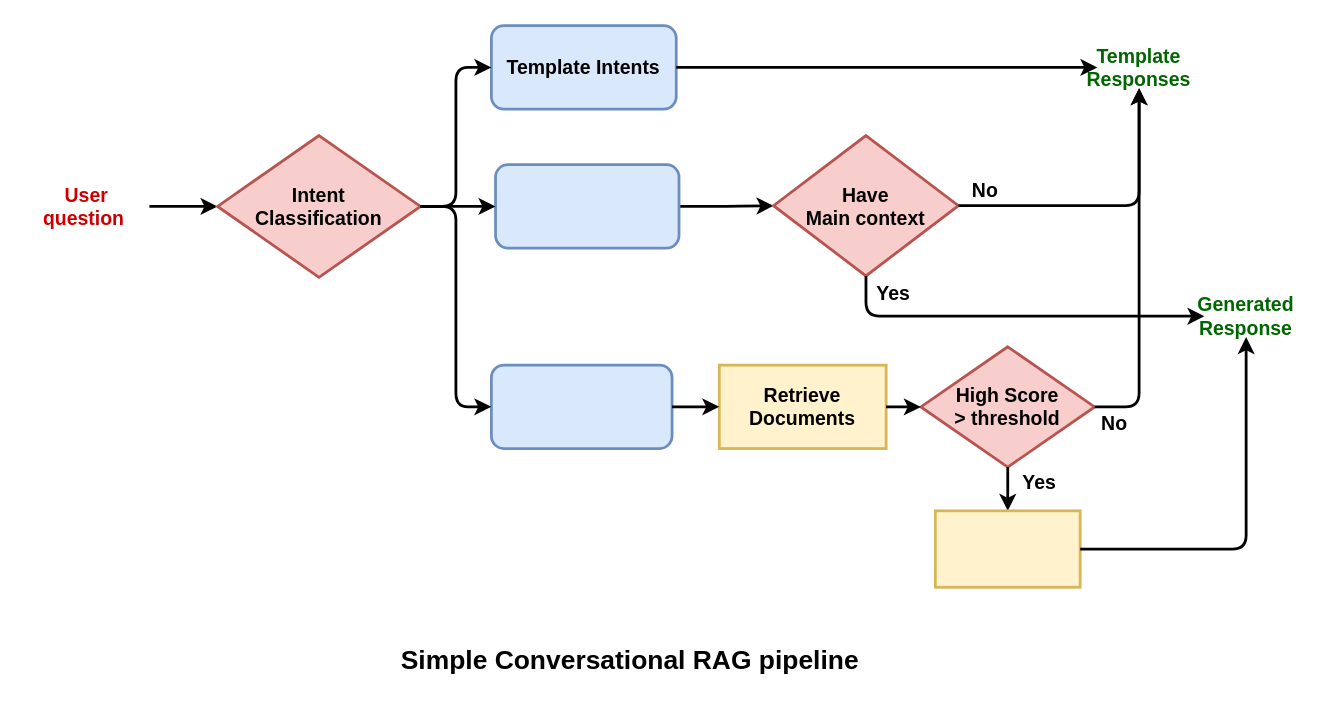
This 1318x705 diagram has some shape labels left out. The shapes that lost their labels are listed below. From the top down, each one's centre as x and y in pixels, then its label:
point 586,206: Continue Intent
point 581,406: HCC Intent
point 1007,548: Update main context
